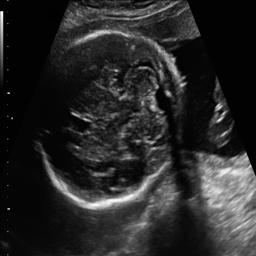normal: (36, 30, 184, 208)
